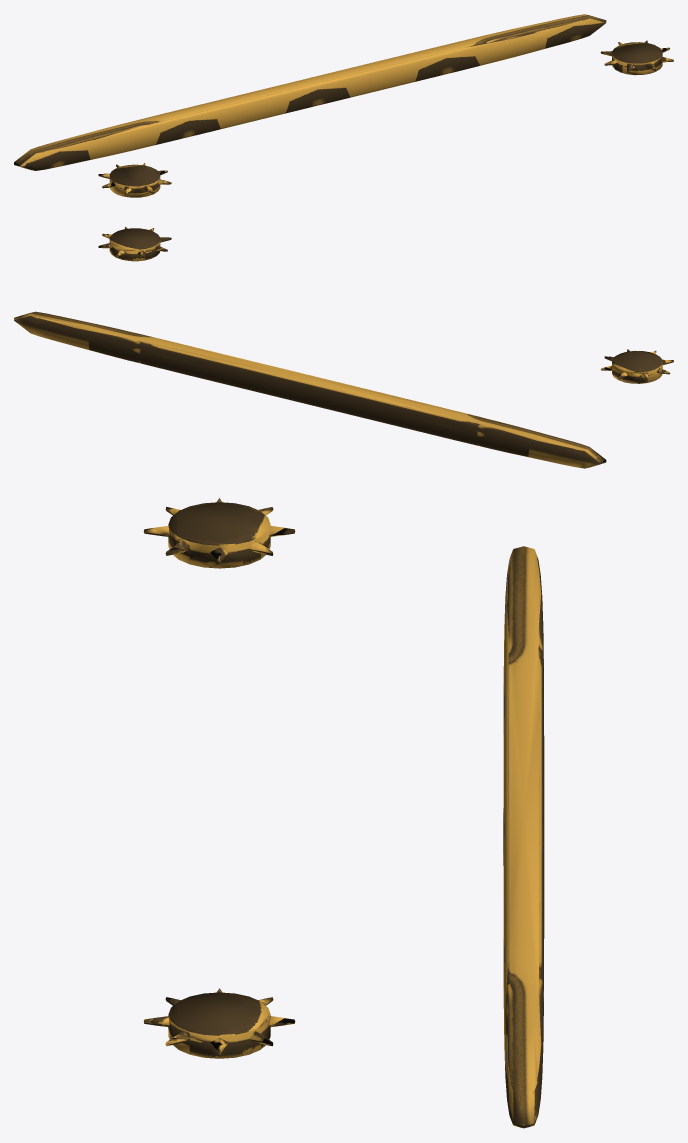
File: Centinela_Capa_Oro.fbx
3 renders of one model, top to bottom at view 1: azimuth 30°, elevation 25°; view 2: azimuth 150°, elevation 25°; view 3: azimuth 270°, elevation 25°, orthographic. The views are drawn at different scales.
Parts seen in each view (by area): view 1: Centinela_Capa_Oro; view 2: Centinela_Capa_Oro; view 3: Centinela_Capa_Oro.
Boxes of the visible parts, x1=… form: Centinela_Capa_Oro: x1=14, y1=14, x2=673, y2=197; Centinela_Capa_Oro: x1=14, y1=226, x2=673, y2=468; Centinela_Capa_Oro: x1=143, y1=498, x2=544, y2=1128.
Size of the model in its own units: 3.35 by 0.25 by 0.981.
